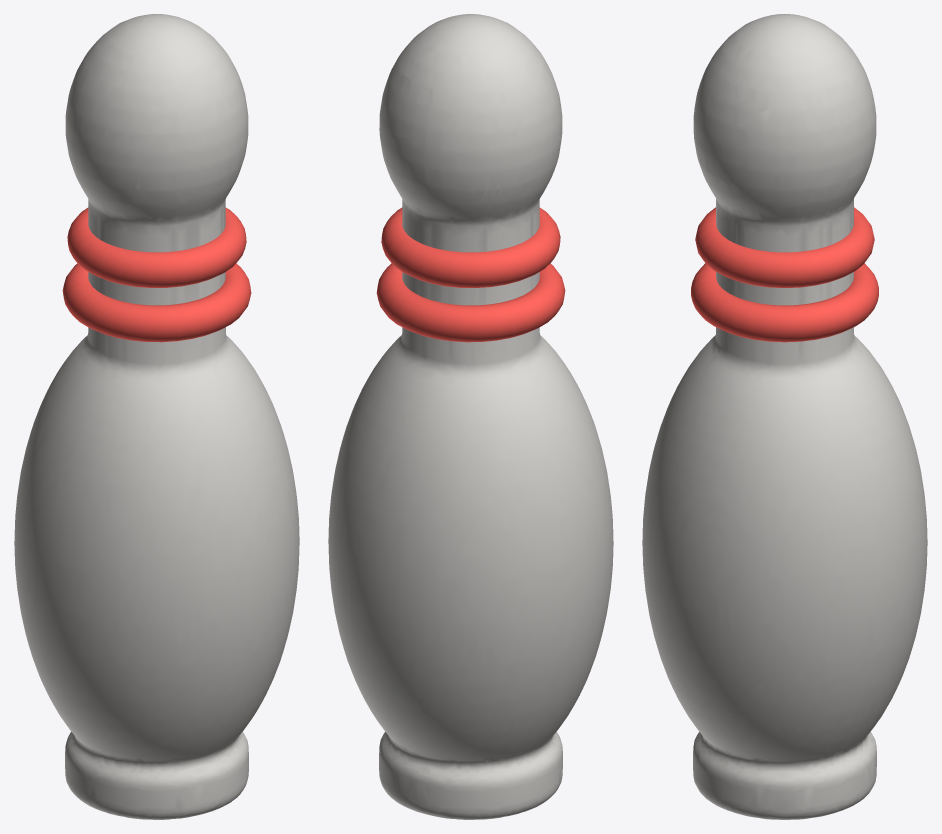
File: bowling_pin.glb
The picture shows the model from 3 angles, left to right: view 1: azimuth 30°, elevation 25°; view 2: azimuth 150°, elevation 25°; view 3: azimuth 270°, elevation 25°; orthographic projection.
Visible parts, largest first — view 1: Base, Stripe, Stripe2; view 2: Base, Stripe, Stripe2; view 3: Base, Stripe, Stripe2.
Boxes of the visible parts, left/top/right/bottom form: Base: left=14, top=14, right=299, bottom=819; Stripe: left=62, top=263, right=251, bottom=342; Stripe2: left=67, top=207, right=246, bottom=287; Base: left=328, top=14, right=613, bottom=819; Stripe: left=376, top=263, right=565, bottom=342; Stripe2: left=381, top=207, right=560, bottom=287; Base: left=642, top=14, right=927, bottom=819; Stripe: left=691, top=263, right=878, bottom=342; Stripe2: left=695, top=207, right=874, bottom=287.
Size of the model in its own units: 0.1239 by 0.3668 by 0.1239.
